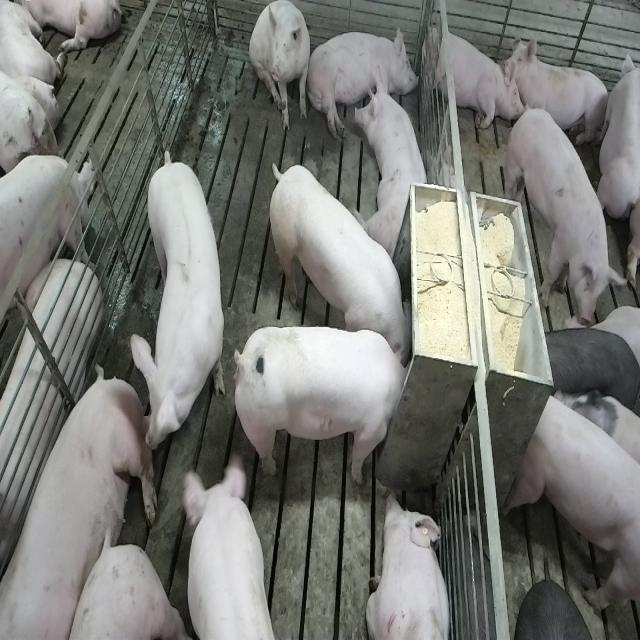Feeding: (264, 160, 412, 362), (228, 324, 410, 484)
Lateral_lying: (4, 368, 160, 640), (0, 255, 103, 603), (306, 24, 419, 140)
Sitting: (249, 2, 312, 134)
Standing: (514, 386, 638, 632), (127, 146, 225, 450), (508, 103, 624, 328), (176, 456, 281, 640), (0, 158, 94, 345), (535, 324, 640, 414)
Sternal_lying: (356, 74, 433, 259), (365, 490, 453, 640), (506, 36, 612, 153), (424, 22, 518, 134)
